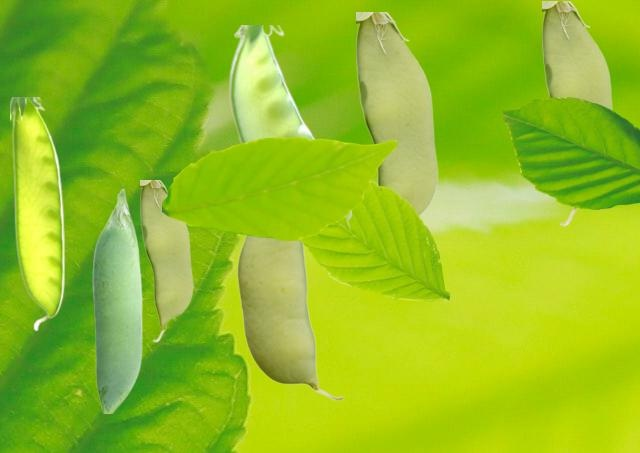pea: (228, 25, 350, 231), (236, 236, 344, 400), (356, 12, 437, 216), (542, 1, 612, 225), (10, 97, 63, 330), (92, 188, 141, 412), (140, 180, 192, 341)
